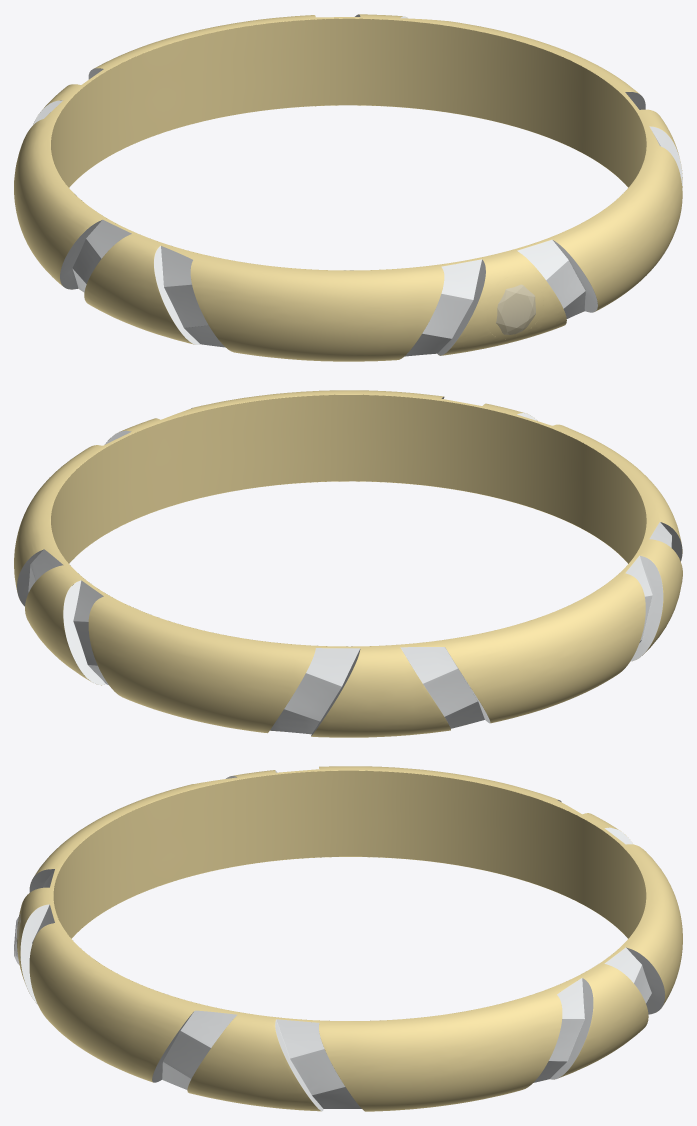
The picture shows the model from 3 angles, top to bottom: view 1: azimuth 30°, elevation 25°; view 2: azimuth 150°, elevation 25°; view 3: azimuth 270°, elevation 25°; orthographic projection.
Visible parts, largest first — view 1: Base_Metal, Engraving_Metal, Finishing_Metal, Base_Metal_NoDiamond, Diamond_Metal; view 2: Base_Metal, Engraving_Metal, Finishing_Metal, Base_Metal_NoDiamond; view 3: Base_Metal, Engraving_Metal, Finishing_Metal, Base_Metal_NoDiamond.
Part boxes in pixels (<box>): Base_Metal: <box>14,14,682,361</box>; Engraving_Metal: <box>51,18,646,270</box>; Finishing_Metal: <box>33,14,682,356</box>; Base_Metal_NoDiamond: <box>14,17,680,360</box>; Diamond_Metal: <box>496,284,535,334</box>; Base_Metal: <box>14,390,682,737</box>; Engraving_Metal: <box>51,394,646,646</box>; Finishing_Metal: <box>17,397,682,735</box>; Base_Metal_NoDiamond: <box>14,401,682,736</box>; Base_Metal: <box>18,766,682,1111</box>; Engraving_Metal: <box>53,770,646,1020</box>; Finishing_Metal: <box>20,770,664,1111</box>; Base_Metal_NoDiamond: <box>16,771,680,1109</box>.
Bounding box in the file's own units: 2.8 × 0.4002 × 2.81.
